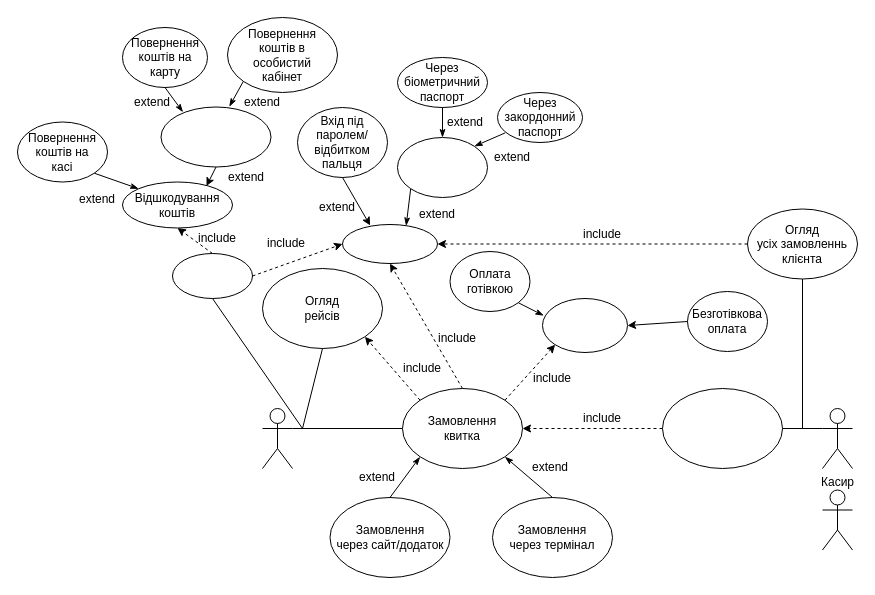
Image size: 875x595. Some labels were removed from this diagram. Each missing label, with the box of its shape:
Аутентифікація: (342, 224, 438, 264)
Клієнт: (262, 408, 292, 468)
Оплата: (542, 298, 628, 352)
Оформлення замовлення через касу: (662, 388, 782, 468)
Повернення коштів через додаток: (160, 106, 271, 167)
Реєстрація: (396, 136, 488, 198)
Скасування замовлення: (172, 252, 252, 298)
